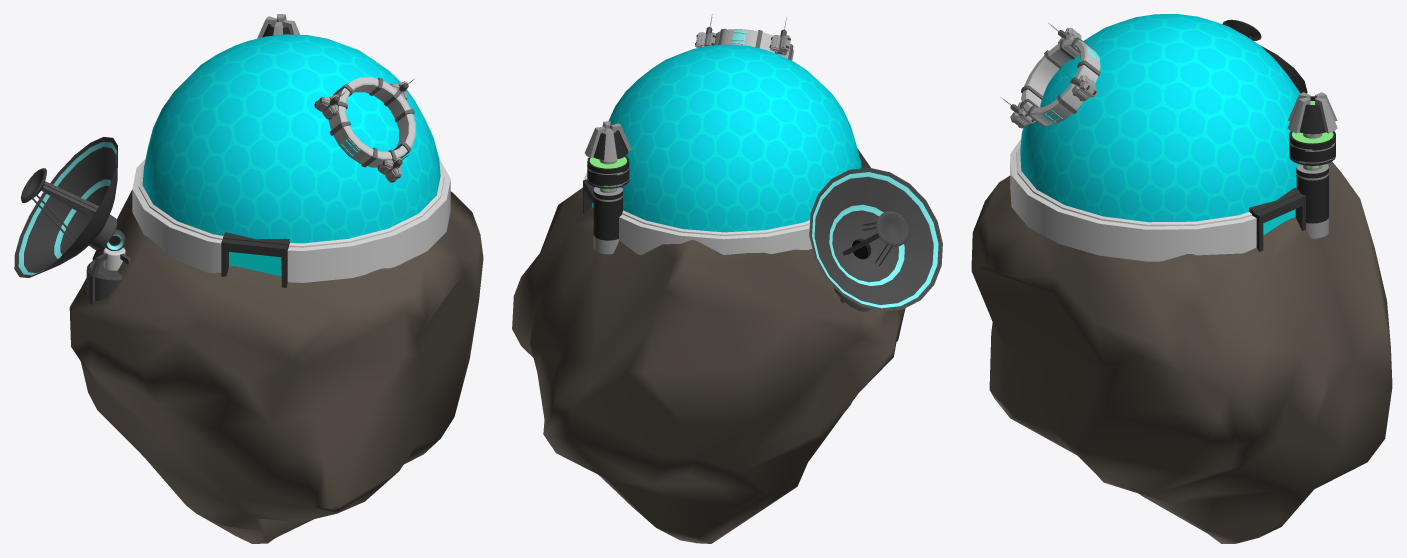
The model's file is PodBase_01.fbx.
The picture shows the model from 3 angles, left to right: view 1: azimuth 30°, elevation 25°; view 2: azimuth 150°, elevation 25°; view 3: azimuth 270°, elevation 25°; orthographic projection. The views are drawn at different scales.
Visible parts, largest first — view 1: SM_Env_Astroid_01, DomeSphere_01, DomeGate_01, Antenna_01, RingGate_01, TowerDevice_04; view 2: SM_Env_Astroid_01, DomeSphere_01, Antenna_01, DomeGate_01, TowerDevice_04, RingGate_01; view 3: SM_Env_Astroid_01, DomeSphere_01, DomeGate_01, TowerDevice_04, RingGate_01, Antenna_01.
Part boxes in pixels (bbox=[...]): SM_Env_Astroid_01: bbox=[69, 190, 483, 543]; DomeSphere_01: bbox=[142, 34, 440, 243]; DomeGate_01: bbox=[132, 158, 450, 287]; Antenna_01: bbox=[14, 137, 130, 304]; RingGate_01: bbox=[314, 77, 415, 182]; TowerDevice_04: bbox=[257, 14, 300, 38]; SM_Env_Astroid_01: bbox=[512, 187, 905, 543]; DomeSphere_01: bbox=[608, 44, 861, 232]; Antenna_01: bbox=[809, 167, 942, 311]; DomeGate_01: bbox=[583, 148, 870, 255]; TowerDevice_04: bbox=[585, 121, 631, 254]; RingGate_01: bbox=[695, 14, 793, 60]; SM_Env_Astroid_01: bbox=[971, 162, 1392, 543]; DomeSphere_01: bbox=[1020, 14, 1300, 222]; DomeGate_01: bbox=[1010, 139, 1305, 261]; TowerDevice_04: bbox=[1287, 92, 1337, 238]; RingGate_01: bbox=[1000, 23, 1100, 128]; Antenna_01: bbox=[1222, 19, 1307, 93].
Size of the model in its own units: 345 by 381 by 281.
